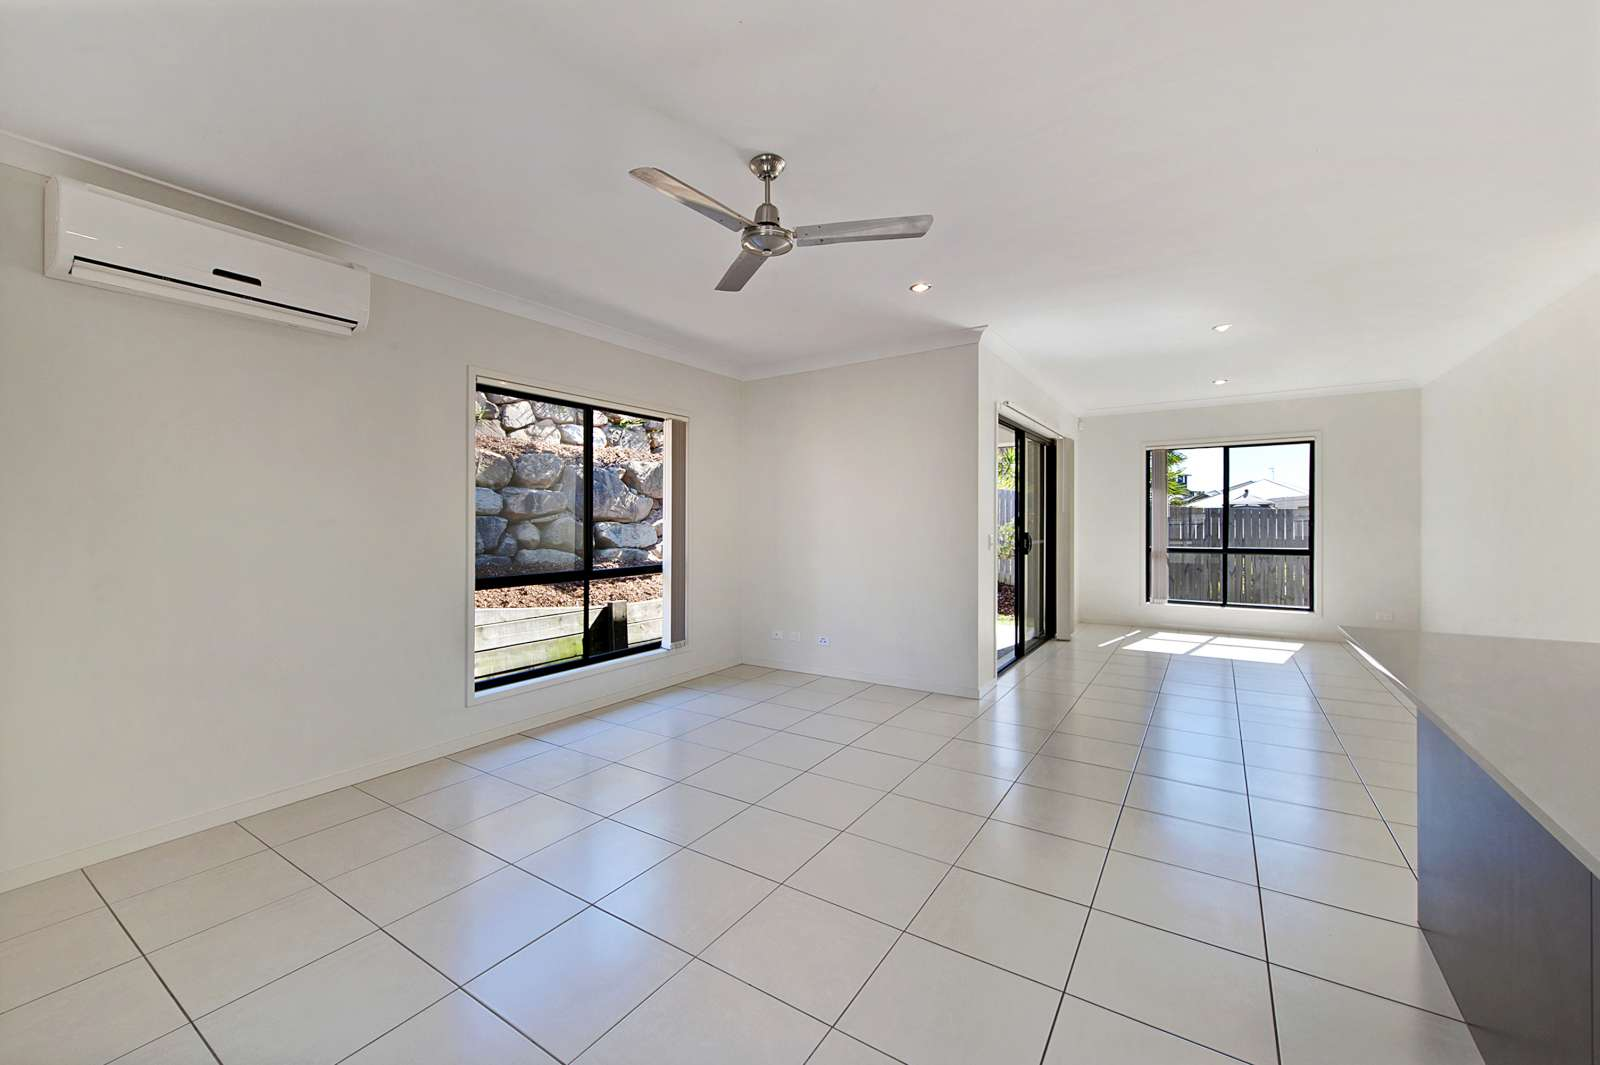ceiling fan: (588, 122, 949, 298)
